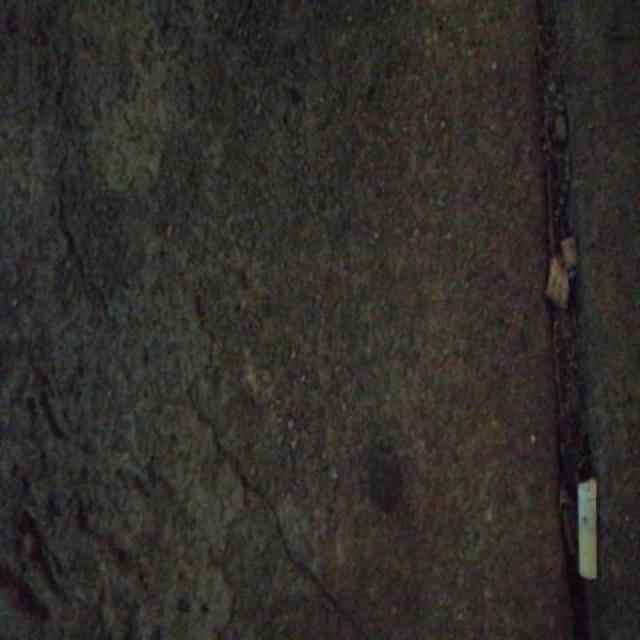non-organic waste: (575, 472, 604, 584)
